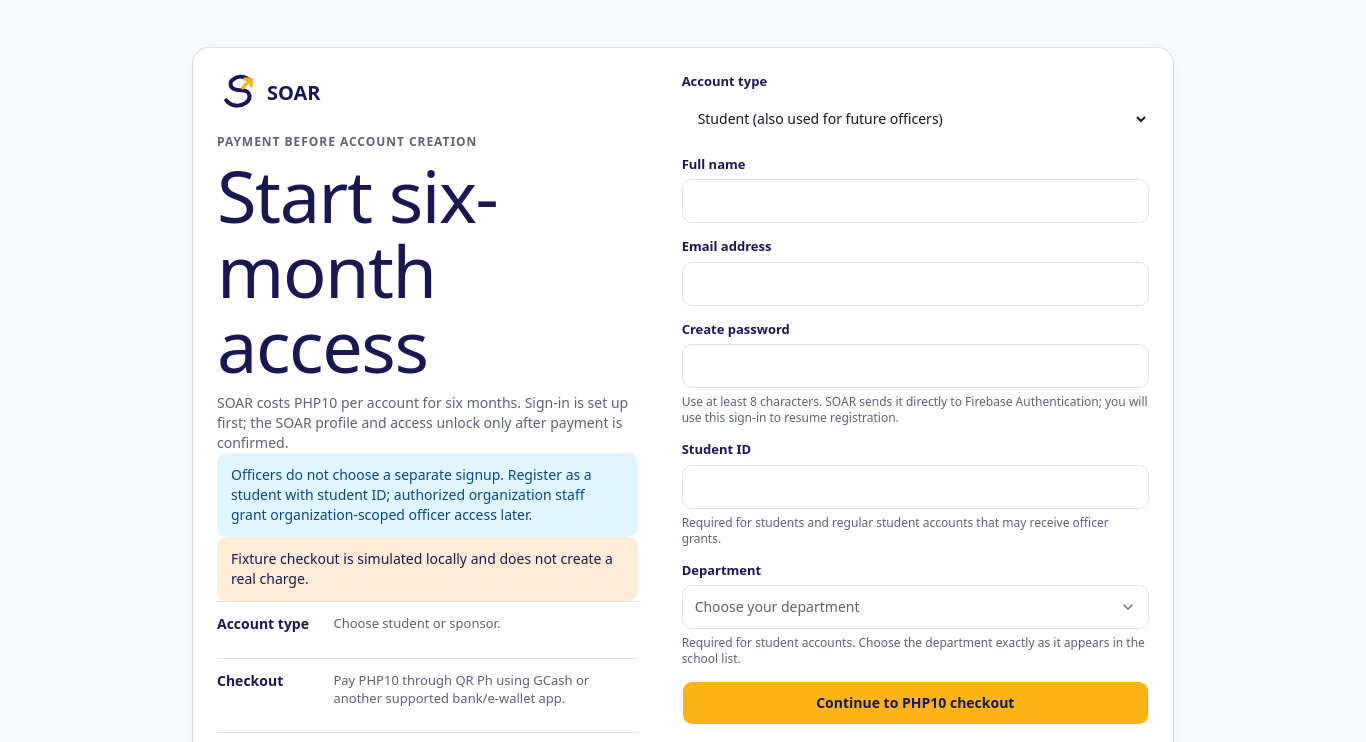
it: RegistrationIntentPage › requires a valid student ID before starting payment for student accounts
Check: the button "Continue to PHP10 checkout" is shown, box [682,681,1149,725]
Step 1. Type "Mara Santos" into the field labelled "Full name" → (915, 201), box [682,179,1149,223]
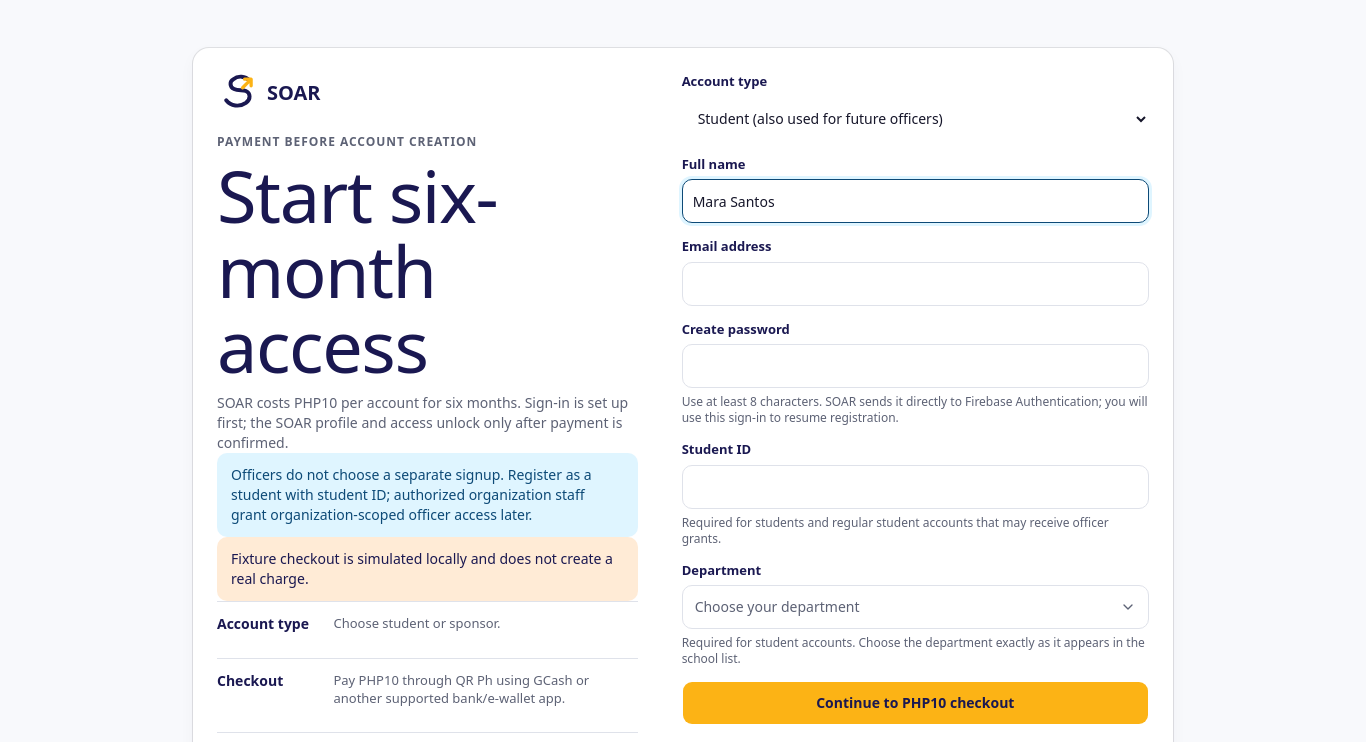
Step 2. Type "mara@example.edu" into the field labelled "Email address" → (915, 284), box [682,262,1149,306]
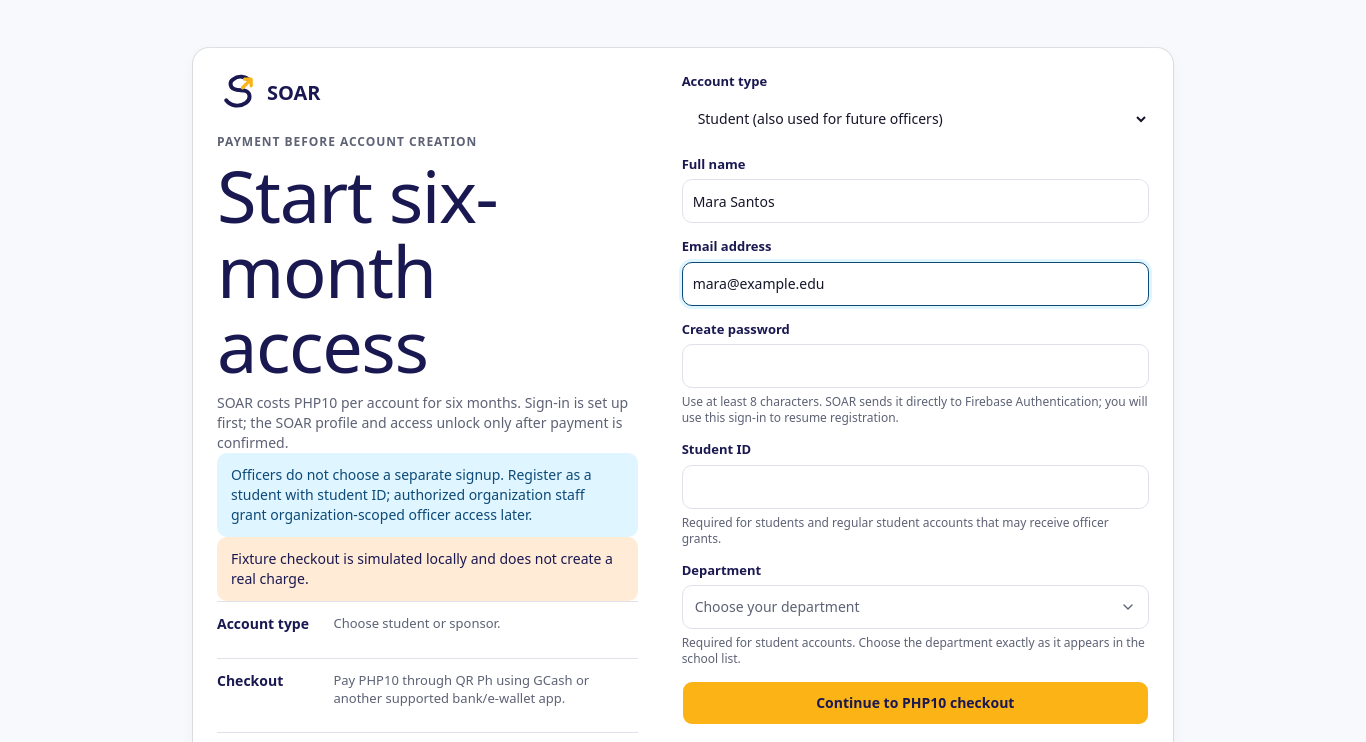
Step 3. Type "StrongPass123" into the password field labelled "Create password" → (915, 366), box [682,344,1149,388]
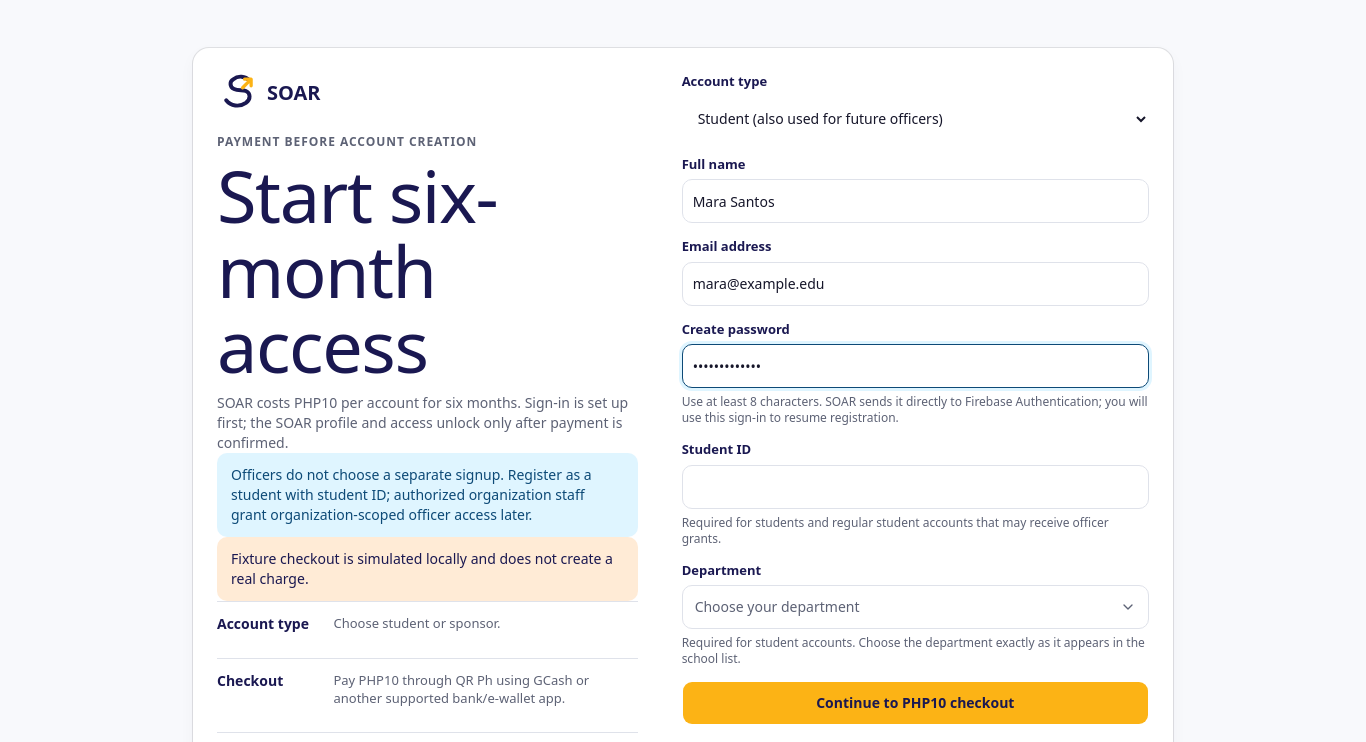
Step 4. Click the button "Continue to PHP10 checkout" → click(915, 703), box [682,681,1149,725]
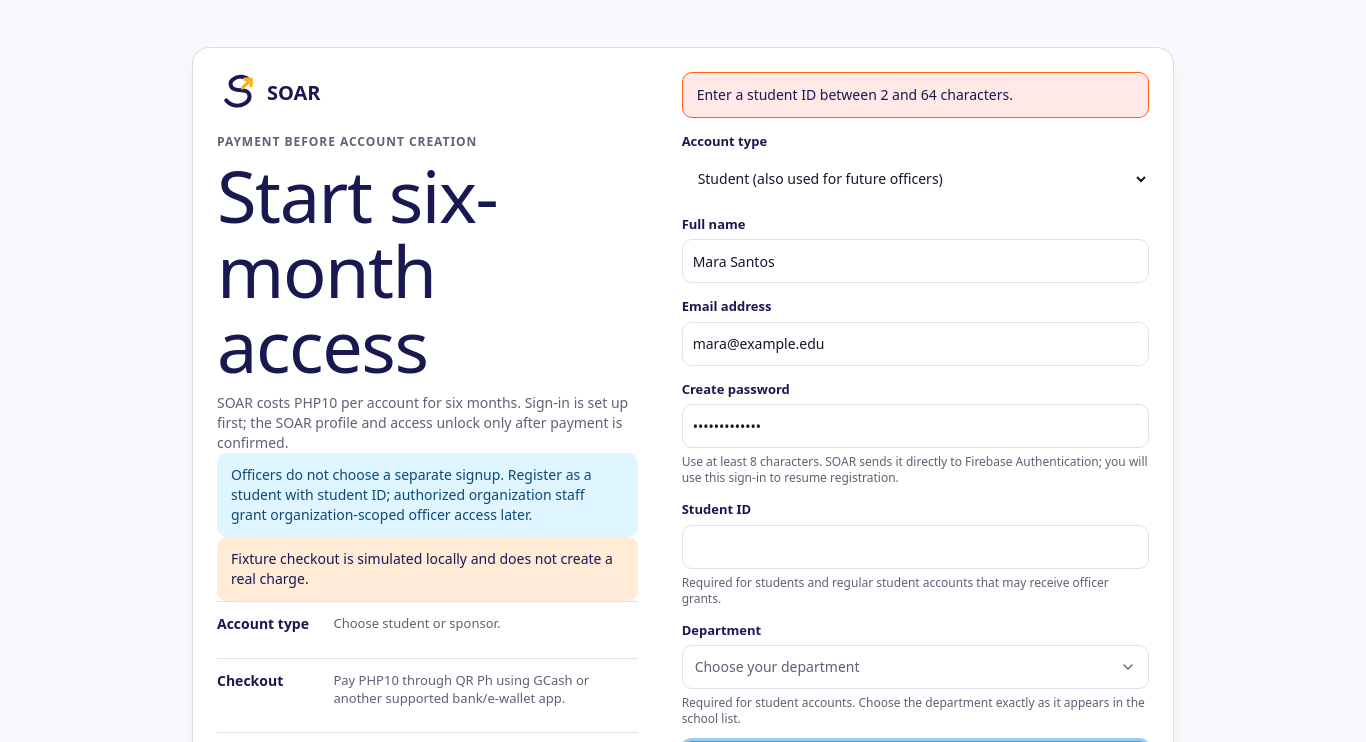
Check: the message shows "student ID between 2 and 64 characters", box [697,85,1013,104]
